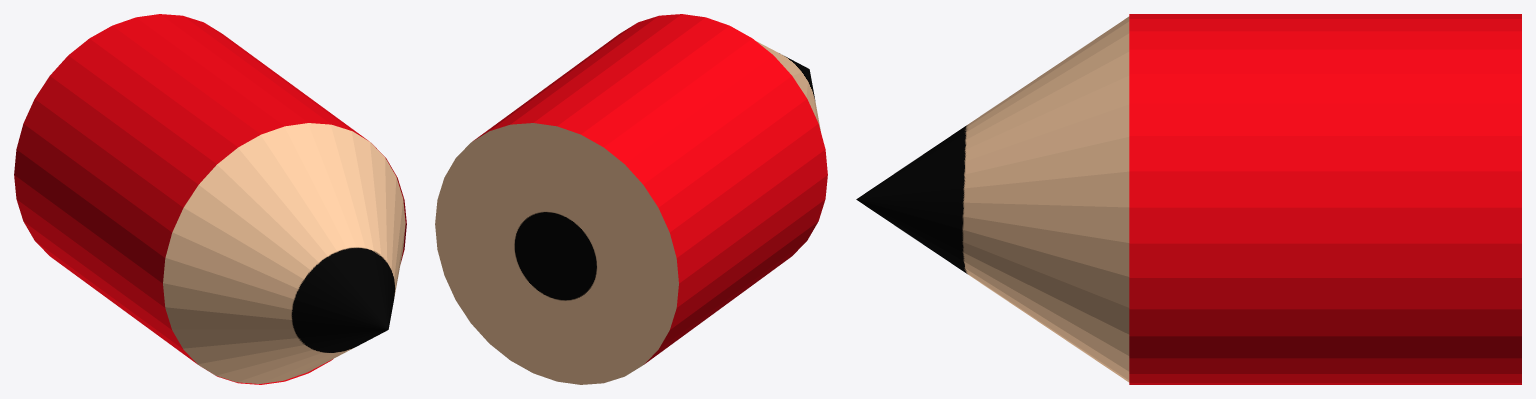
File: Player.obj
The picture shows the model from 3 angles, left to right: view 1: azimuth 30°, elevation 25°; view 2: azimuth 150°, elevation 25°; view 3: azimuth 270°, elevation 25°; orthographic projection. The views are drawn at different scales.
Visible parts, largest first — view 1: 円柱; view 2: 円柱; view 3: 円柱.
Part boxes in pixels (x1,y1,x2,y2): 円柱: (14, 14, 406, 384); 円柱: (435, 14, 827, 384); 円柱: (856, 14, 1521, 384).
Bounding box in the file's own units: 2 × 2 × 3.59.
Materials: 1 (1 with a texture image).
